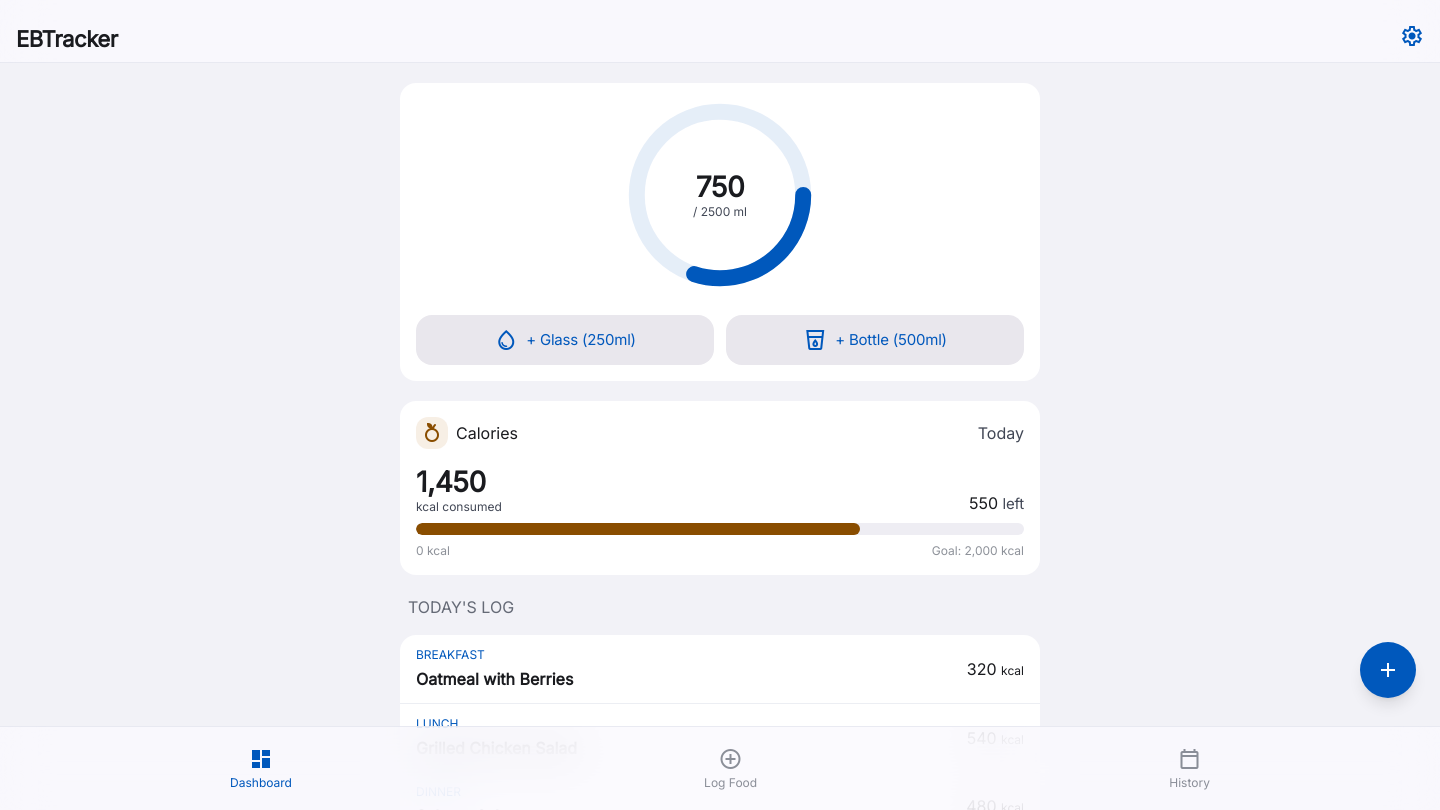
Dashboard Component › saves water to store and database when "+ Bottle (500ml)" is clicked
What coordinates should you click on to do the following:
click the text "+ Bottle (500ml)"
I would click on:
 (891, 340)
Its box is [835,330,947,350].
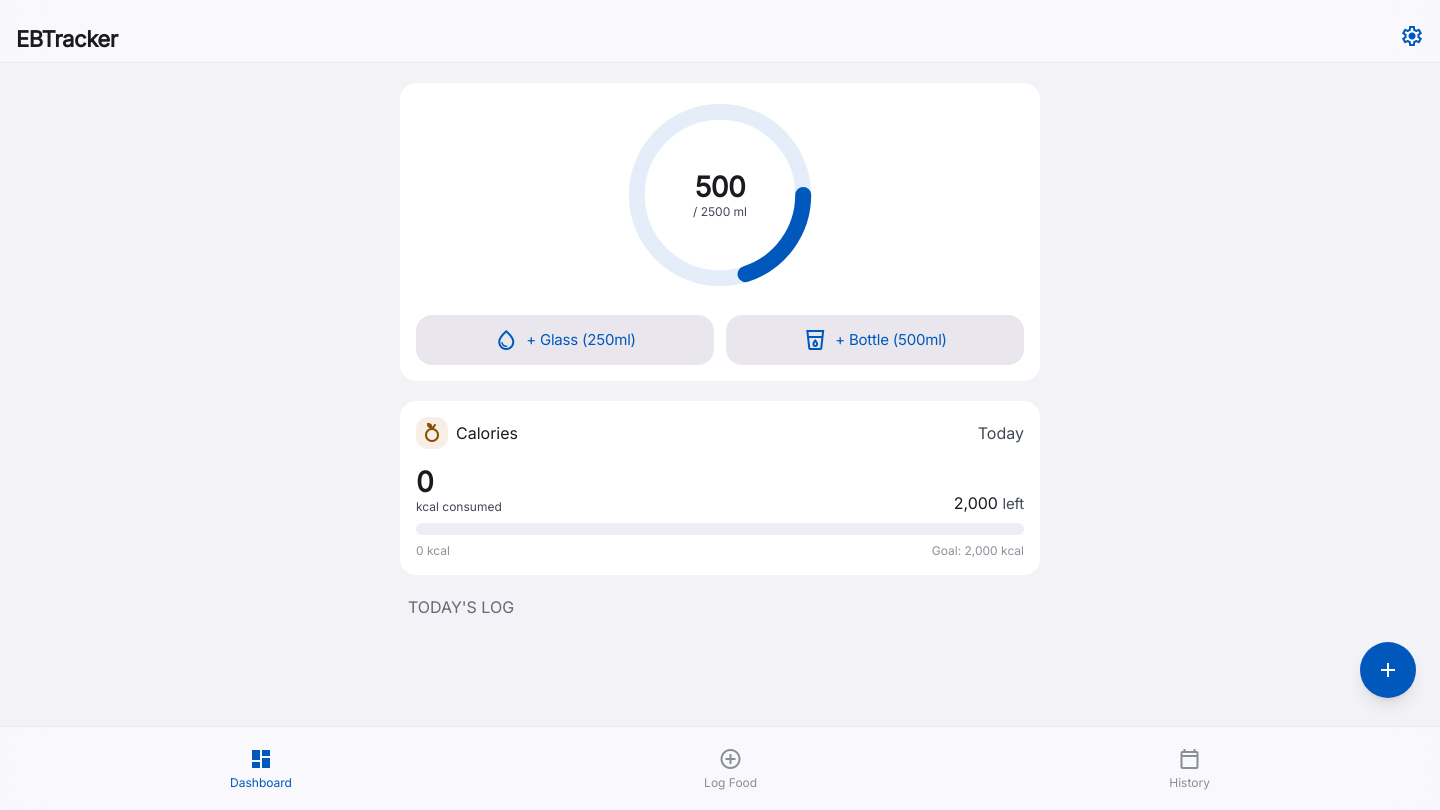
expect the text "500" is shown: met, box [695,170,745,204]
